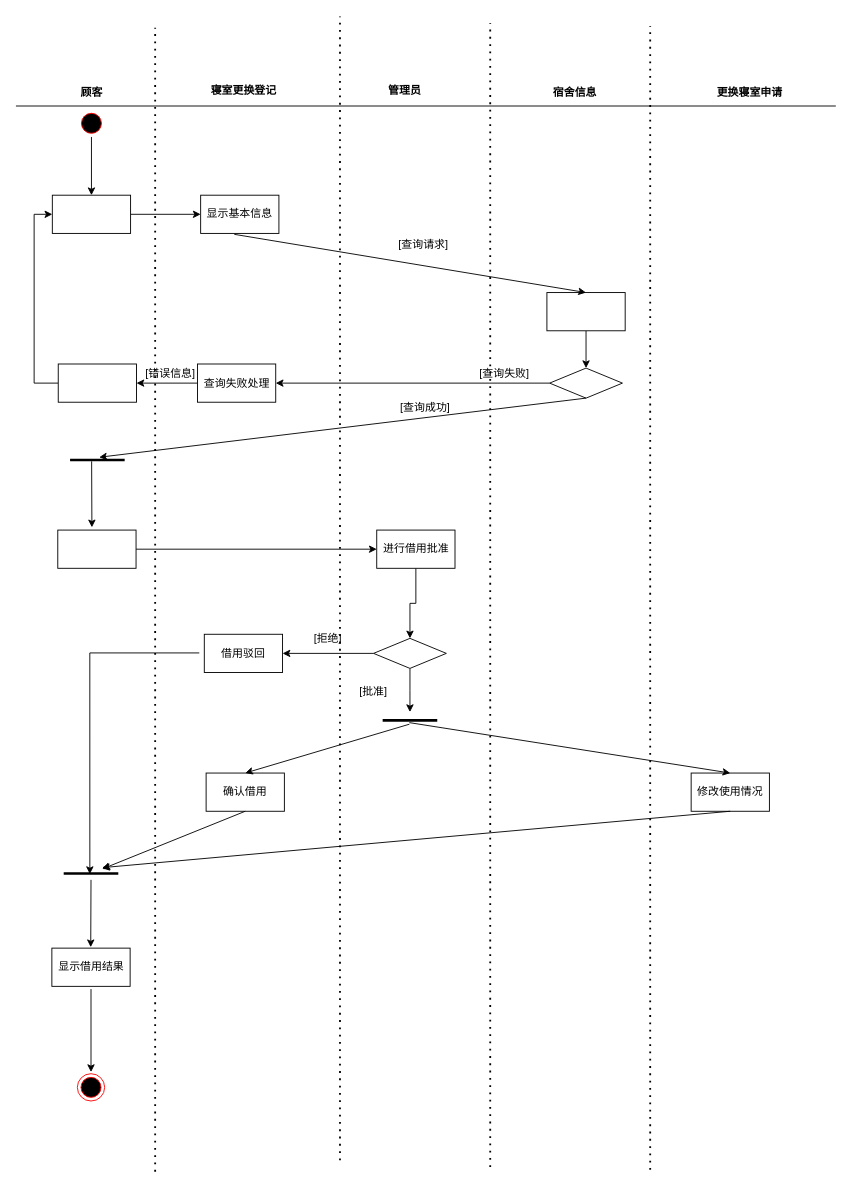
The diagram is 852 pixels wide and 1189 high, and some of its shapes have lost their labels. Here are the shapes that lost their labels. From the top down, the centre of each, then its label:
point 91,213: 点击更换寝室
point 585,311: 查询宿舍床位
point 96,382: 报错反馈
point 96,548: 填写借用申请
